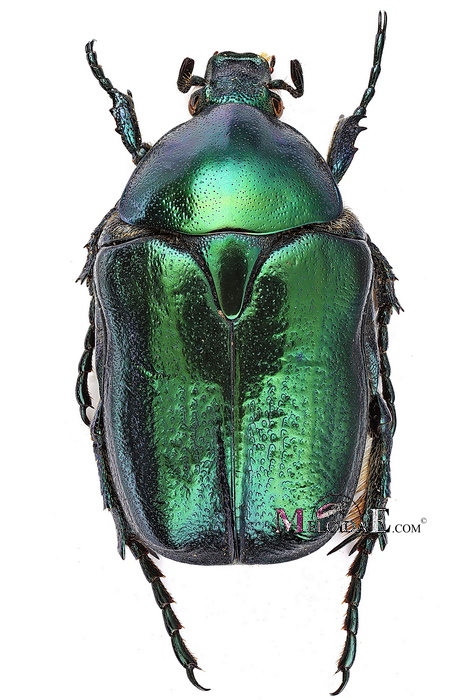Protaetia_angustata_angustata: (57, 10, 408, 694)
